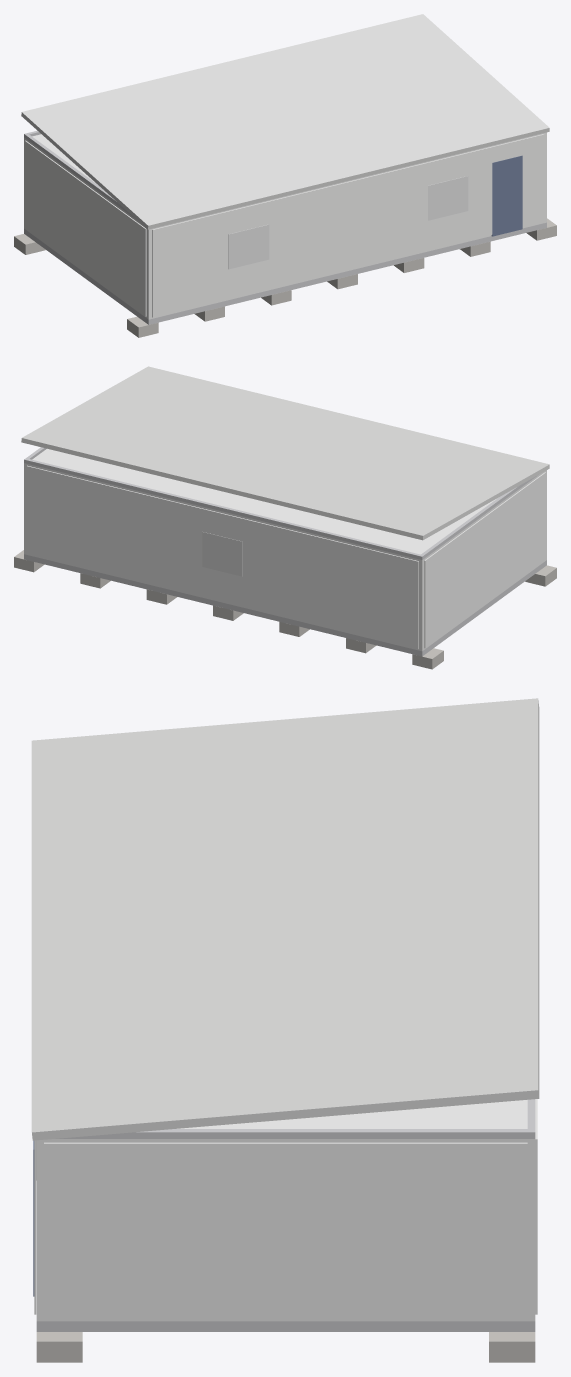
The model's file is Studio-40-SlopingRoof-LOD2.glb.
The picture shows the model from 3 angles, top to bottom: view 1: azimuth 30°, elevation 25°; view 2: azimuth 150°, elevation 25°; view 3: azimuth 270°, elevation 25°; orthographic projection. The views are drawn at different scales.
Visible parts, largest first — view 1: RoofSlopingUpgrade, ExteriorPanelsStandard, BaseFrame, WindowsStandard, FoundationBlocks, ExteriorShell, EntryDoor, TopFrame; view 2: ExteriorPanelsStandard, RoofSlopingUpgrade, InteriorCeiling, TopFrame, ExteriorShell, BaseFrame, FoundationBlocks, WindowsStandard; view 3: RoofSlopingUpgrade, ExteriorPanelsStandard, ExteriorShell, BaseFrame, InteriorCeiling, TopFrame, FoundationBlocks.
Boxes of the visible parts, left/top/right/bottom form: RoofSlopingUpgrade: left=21, top=14, right=549, bottom=229; ExteriorPanelsStandard: left=25, top=134, right=544, bottom=317; BaseFrame: left=24, top=222, right=546, bottom=324; WindowsStandard: left=228, top=176, right=468, bottom=269; FoundationBlocks: left=14, top=218, right=556, bottom=337; ExteriorShell: left=24, top=132, right=546, bottom=319; EntryDoor: left=491, top=155, right=522, bottom=236; TopFrame: left=24, top=130, right=136, bottom=219; ExteriorPanelsStandard: left=26, top=465, right=545, bottom=649; RoofSlopingUpgrade: left=21, top=366, right=549, bottom=540; InteriorCeiling: left=32, top=448, right=497, bottom=554; TopFrame: left=24, top=447, right=537, bottom=559; ExteriorShell: left=24, top=463, right=546, bottom=651; BaseFrame: left=24, top=554, right=546, bottom=656; FoundationBlocks: left=14, top=550, right=556, bottom=669; WindowsStandard: left=202, top=532, right=242, bottom=576; RoofSlopingUpgrade: left=31, top=698, right=539, bottom=1140; ExteriorPanelsStandard: left=34, top=1099, right=537, bottom=1318; ExteriorShell: left=36, top=1139, right=535, bottom=1321; BaseFrame: left=36, top=1321, right=535, bottom=1331; InteriorCeiling: left=177, top=1100, right=527, bottom=1128; TopFrame: left=56, top=1099, right=535, bottom=1138; FoundationBlocks: left=36, top=1332, right=535, bottom=1362.
Size of the model in its own units: 12.49 by 3.77 by 6.56.
